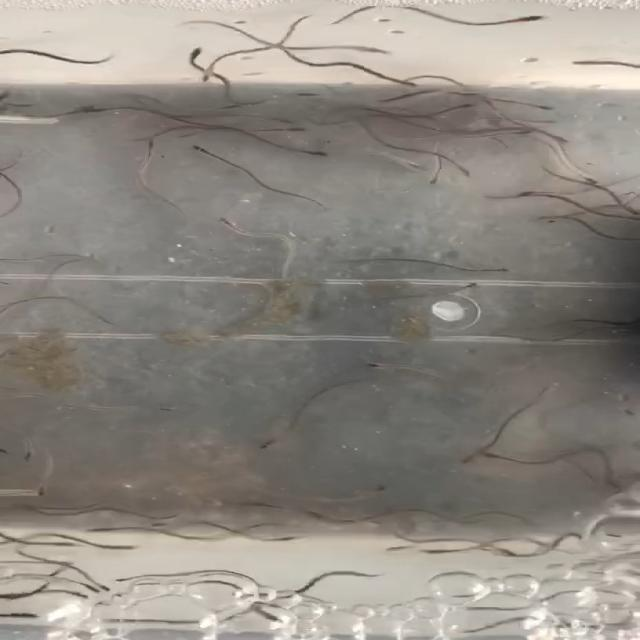active_glass_eel: (197, 214, 260, 238), (341, 44, 407, 65), (2, 442, 48, 468), (254, 605, 298, 632), (163, 40, 213, 62), (234, 434, 279, 458), (130, 397, 185, 416), (272, 529, 315, 553), (352, 356, 396, 378), (517, 13, 562, 33), (180, 64, 227, 82), (362, 485, 406, 504), (407, 158, 446, 178), (449, 163, 486, 184), (448, 88, 496, 104), (412, 175, 459, 191), (468, 265, 525, 278), (580, 171, 610, 195), (54, 538, 92, 556), (24, 481, 53, 504), (509, 183, 541, 203), (82, 524, 122, 540), (372, 544, 407, 562), (284, 88, 318, 106), (301, 145, 326, 169), (169, 146, 221, 157), (128, 134, 168, 148), (414, 544, 454, 558), (70, 103, 112, 116), (296, 509, 332, 524), (281, 123, 312, 140), (140, 522, 183, 534), (114, 543, 150, 557), (459, 278, 492, 293), (441, 103, 490, 113), (214, 98, 242, 115), (478, 446, 502, 465), (108, 571, 134, 588), (43, 559, 87, 569), (96, 580, 125, 595), (262, 116, 298, 128), (537, 100, 563, 116), (614, 200, 640, 216), (542, 212, 568, 228), (390, 76, 427, 87), (61, 590, 98, 601), (15, 611, 59, 620), (459, 452, 478, 470), (503, 546, 525, 561), (76, 584, 108, 594), (10, 101, 32, 109)
